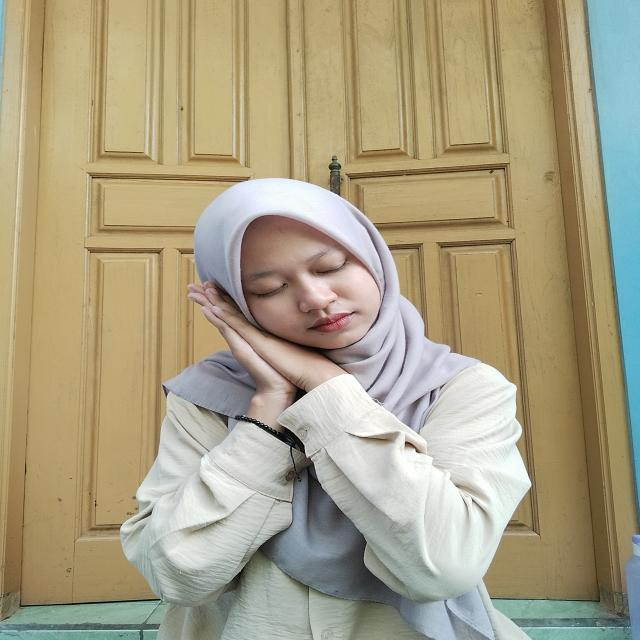tidur: (182, 273, 364, 457)
